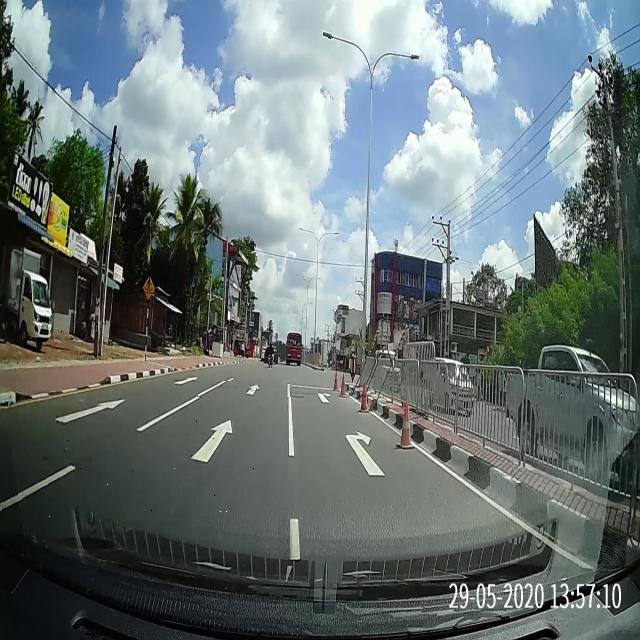forward: (21, 412, 298, 522), (199, 382, 291, 397)
